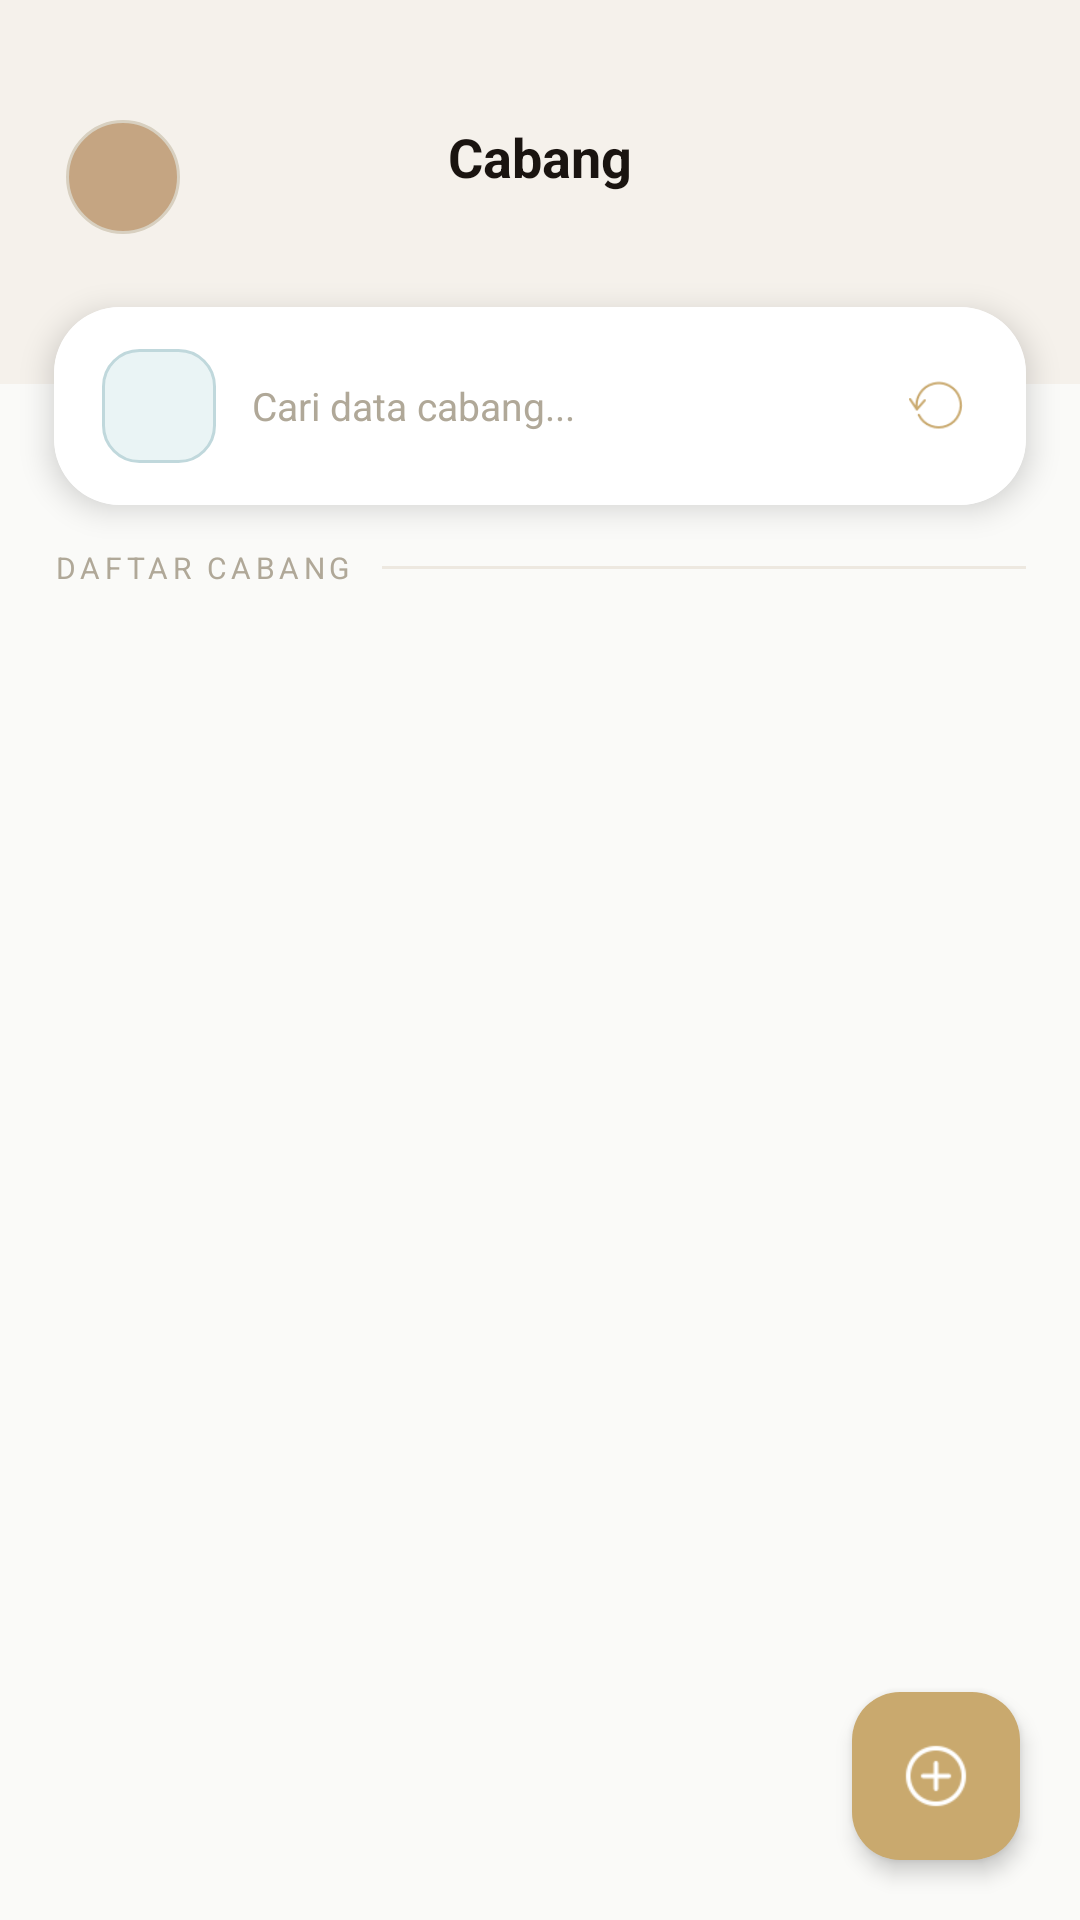

Icons on this 1080px x 1920px Android screen, each with its box as {"x1": x1, "y1": y1, "x2": x2, "y2": y2}:
Reload: {"x1": 909, "y1": 381, "x2": 962, "y2": 429}
Tambah Cabang: {"x1": 852, "y1": 1692, "x2": 1020, "y2": 1860}
